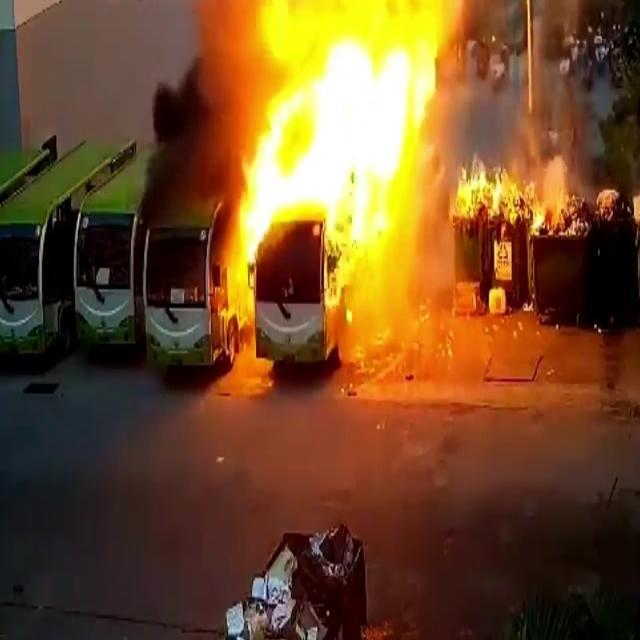Fire: (217, 2, 456, 372), (457, 154, 548, 229)
Smoke: (423, 0, 607, 174), (136, 0, 260, 232)
